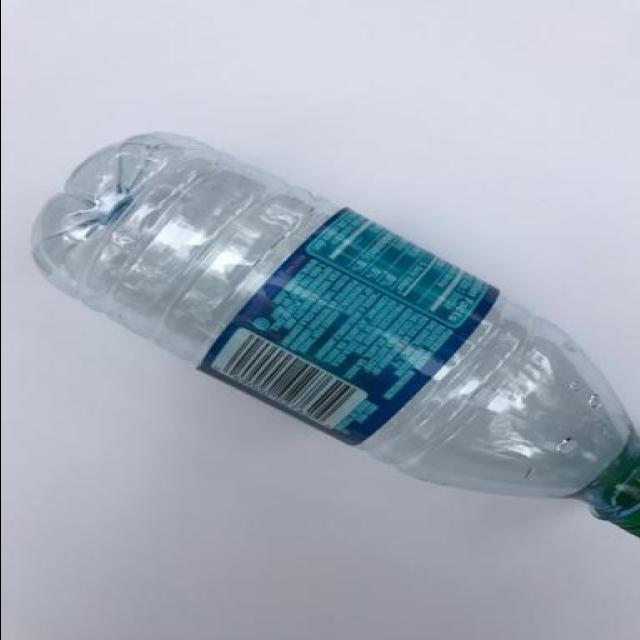litter: (20, 128, 640, 544)
